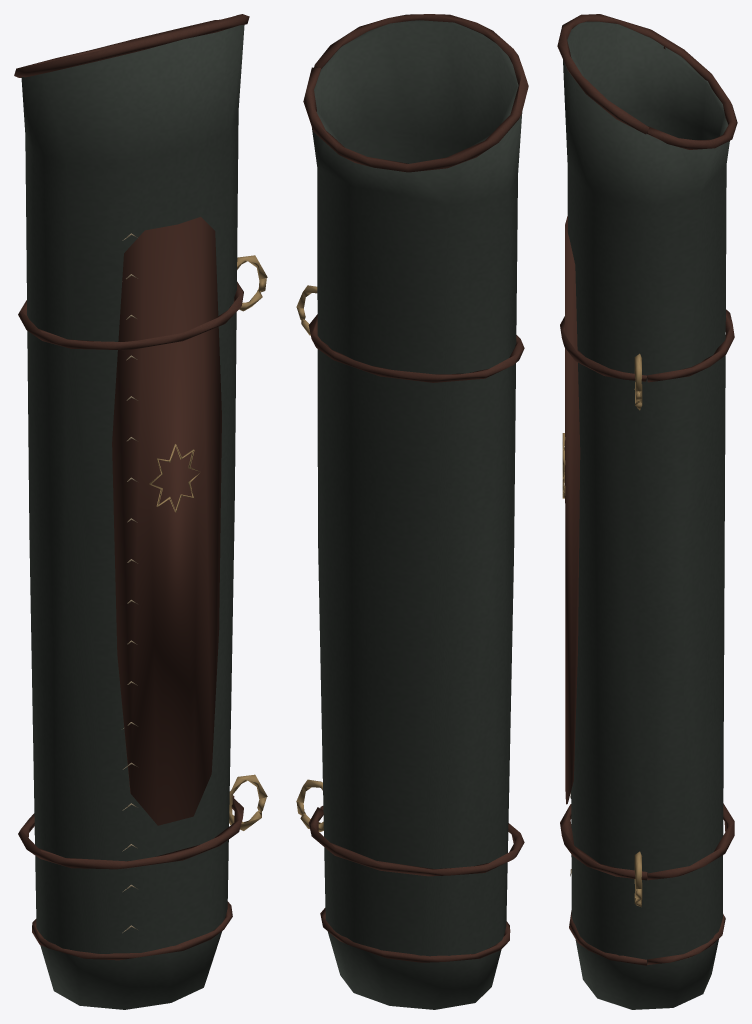
The model's file is quiver_lod2.glb.
The picture shows the model from 3 angles, left to right: view 1: azimuth 30°, elevation 25°; view 2: azimuth 150°, elevation 25°; view 3: azimuth 270°, elevation 25°; orthographic projection. The views are drawn at different scales.
Visible parts, largest first — view 1: QuiverMesh_LOD2; view 2: QuiverMesh_LOD2; view 3: QuiverMesh_LOD2.
Part boxes in pixels (x1,y1,x2,y2): QuiverMesh_LOD2: (14,14,267,1009); QuiverMesh_LOD2: (296,14,528,1009); QuiverMesh_LOD2: (557,14,737,1009).
Size of the model in its own units: 0.178 by 0.6982 by 0.1214.
4 materials, 3 textured.
